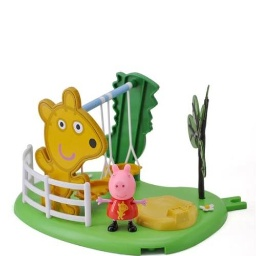Peppa: (95, 164, 150, 234)
